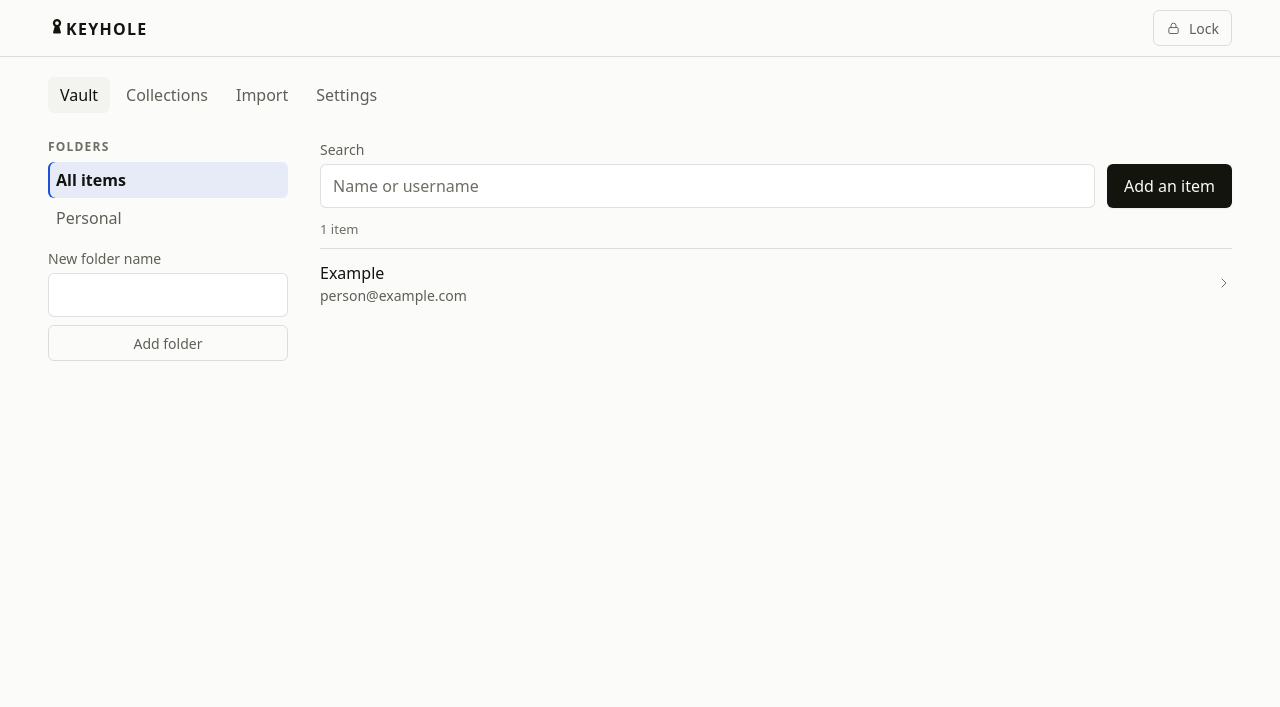
VaultScreen undecryptable items › still opens the editor for a decryptable row (control case)
Click the text "Example" at (352, 272), box [320,262,384,284]
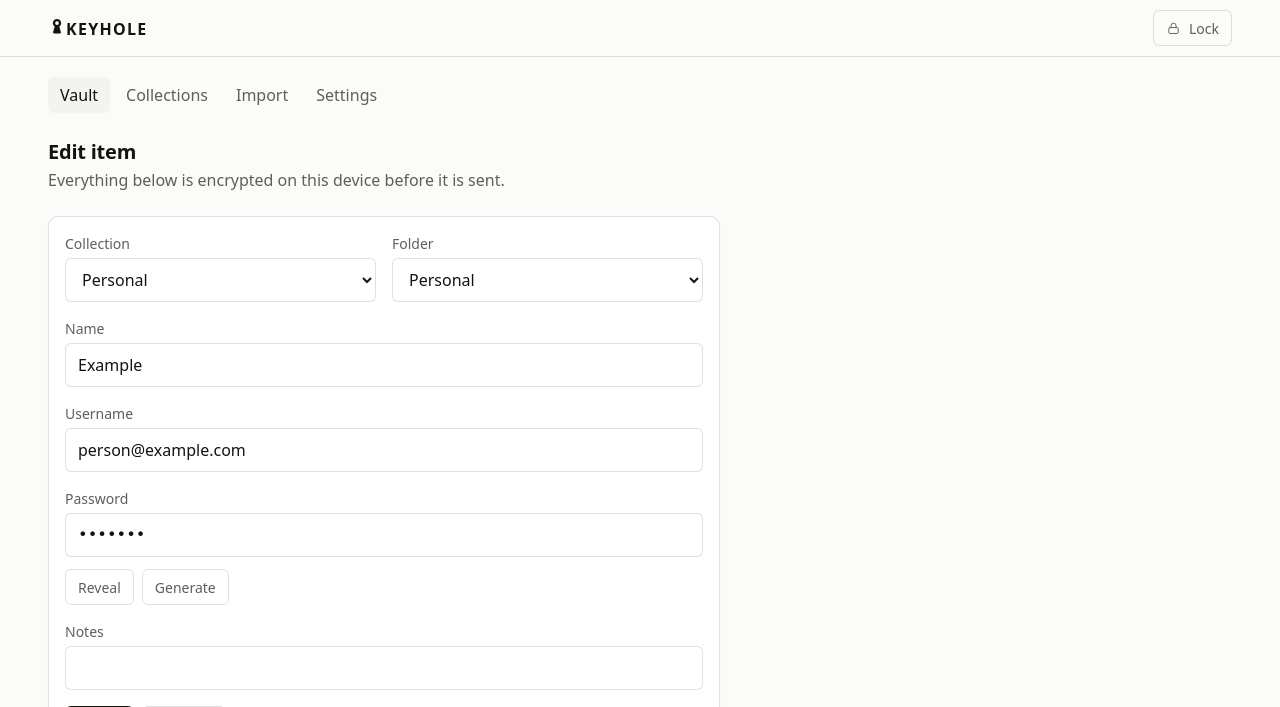
Now the field labelled "Name" holds "Example", box [65,343,703,387]
